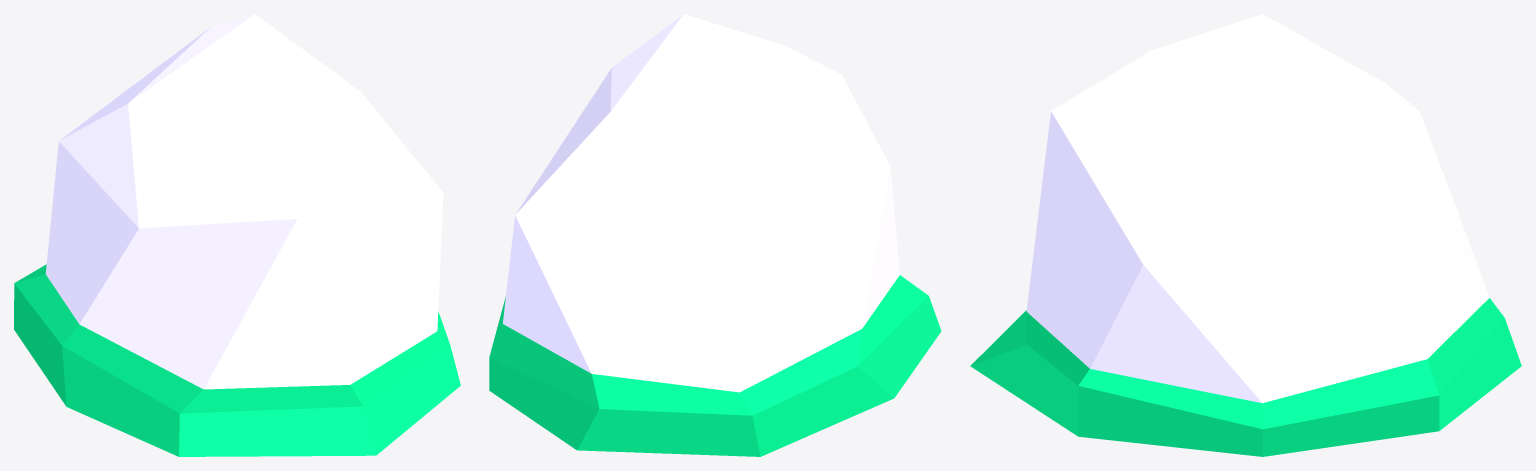
The model's file is rock00.fbx.
3 renders of one model, left to right at view 1: azimuth 30°, elevation 25°; view 2: azimuth 150°, elevation 25°; view 3: azimuth 270°, elevation 25°, orthographic. The views are drawn at different scales.
Visible parts, largest first — view 1: rock02, ground; view 2: rock02, ground; view 3: rock02, ground.
Part boxes in pixels (x1,y1,x2,y2): rock02: (45,14,443,389); ground: (14,264,460,456); rock02: (502,14,899,392); ground: (489,275,941,456); rock02: (1026,14,1489,403); ground: (970,298,1521,456).
Size of the model in its own units: 1.79 by 1.57 by 2.16.
